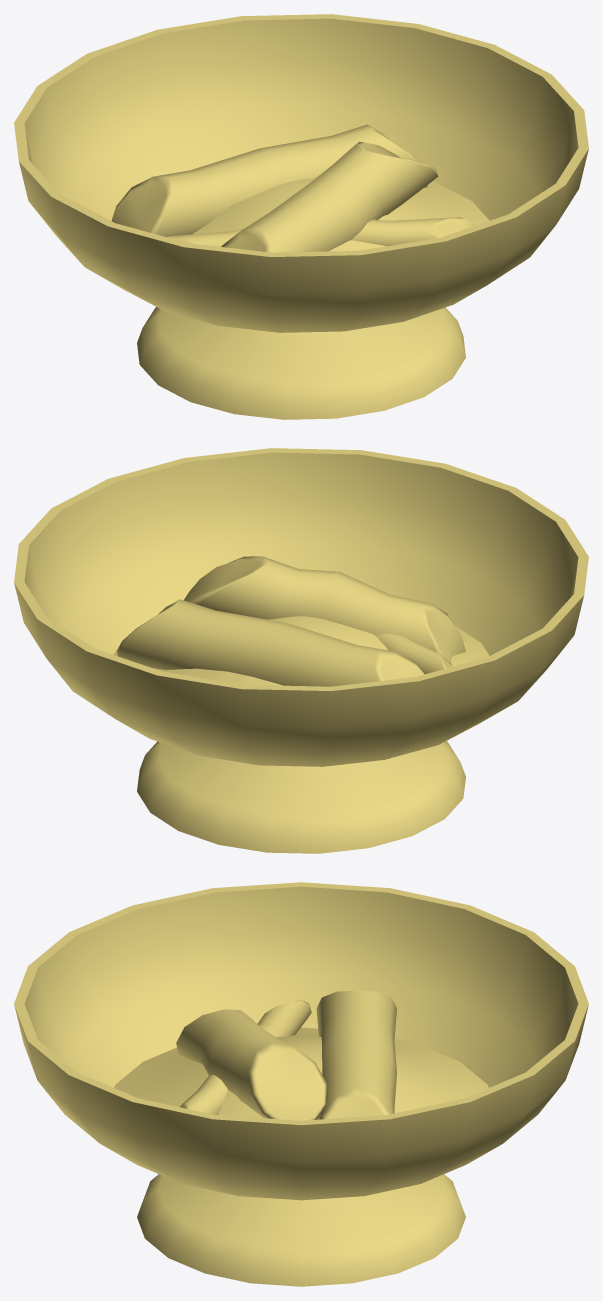
The model's file is SM_Brasero_01.fbx.
3 renders of one model, top to bottom at view 1: azimuth 30°, elevation 25°; view 2: azimuth 150°, elevation 25°; view 3: azimuth 270°, elevation 25°, orthographic.
Parts seen in each view (by area): view 1: SM_Brasero_01; view 2: SM_Brasero_01; view 3: SM_Brasero_01.
Boxes of the visible parts, x1=… form: SM_Brasero_01: x1=14, y1=14, x2=588, y2=419; SM_Brasero_01: x1=14, y1=448, x2=588, y2=853; SM_Brasero_01: x1=14, y1=882, x2=588, y2=1286.
Size of the model in its own units: 1.13 by 0.4625 by 1.13.
